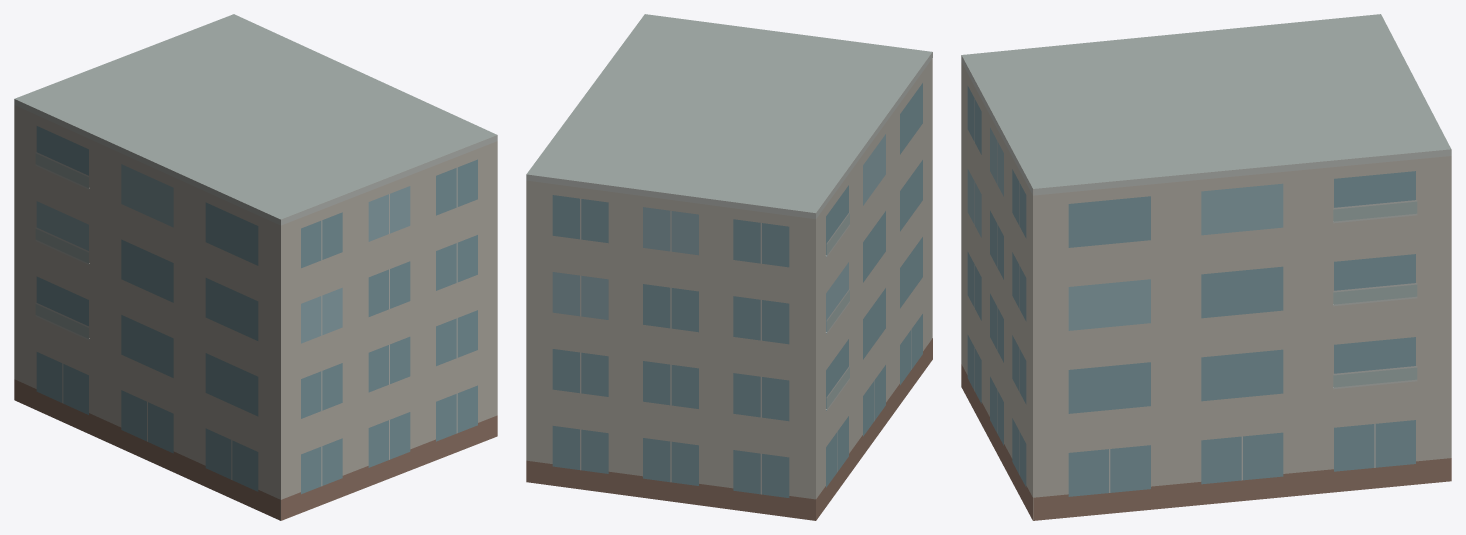
File: survey-upis-32690758.glb
3 renders of one model, left to right at view 1: azimuth 30°, elevation 25°; view 2: azimuth 150°, elevation 25°; view 3: azimuth 270°, elevation 25°, orthographic. The views are drawn at different scales.
Visible parts, largest first — view 1: survey-upis-32690758.tmp; view 2: survey-upis-32690758.tmp; view 3: survey-upis-32690758.tmp.
Part boxes in pixels (<box>): survey-upis-32690758.tmp: <box>14,14,497,520</box>; survey-upis-32690758.tmp: <box>526,14,932,520</box>; survey-upis-32690758.tmp: <box>961,14,1451,520</box>.
Size of the model in its own units: 13.8 by 12.2 by 16.34.
